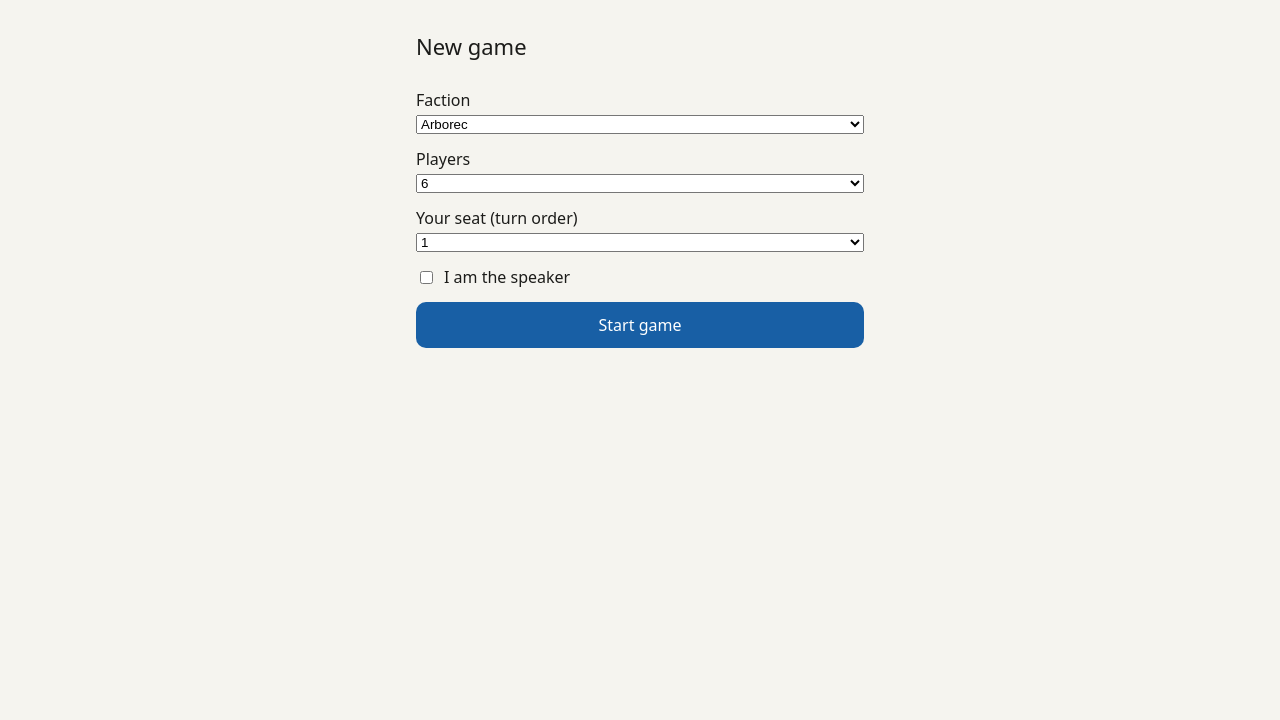
Scenario: App › opens the menu from the bottom bar
What coordinates should you click on to do the following:
click the button "Start game"
I would click on:
 (640, 326)
Its box is [416,302,864,348].
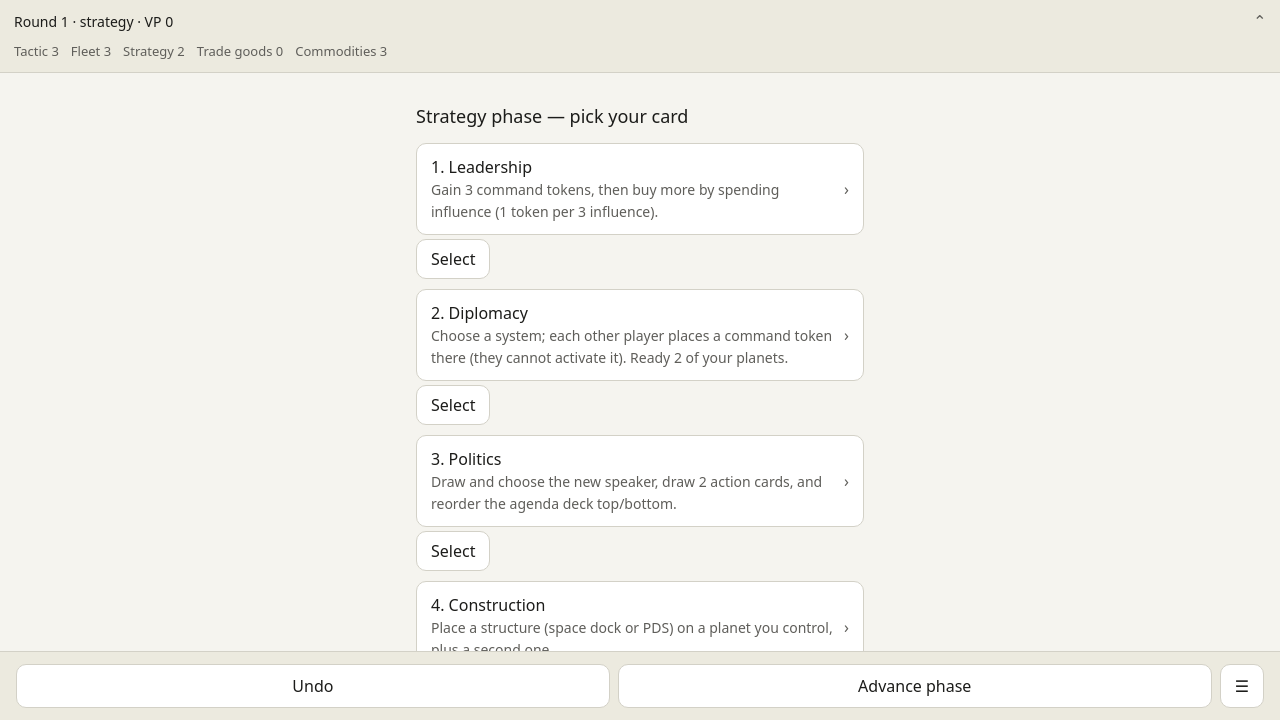
What coordinates should you click on to do the following:
click the button named "Open menu"
I would click on:
 (1242, 686)
Its box is [1220,664,1264,708].
(page scrolled)
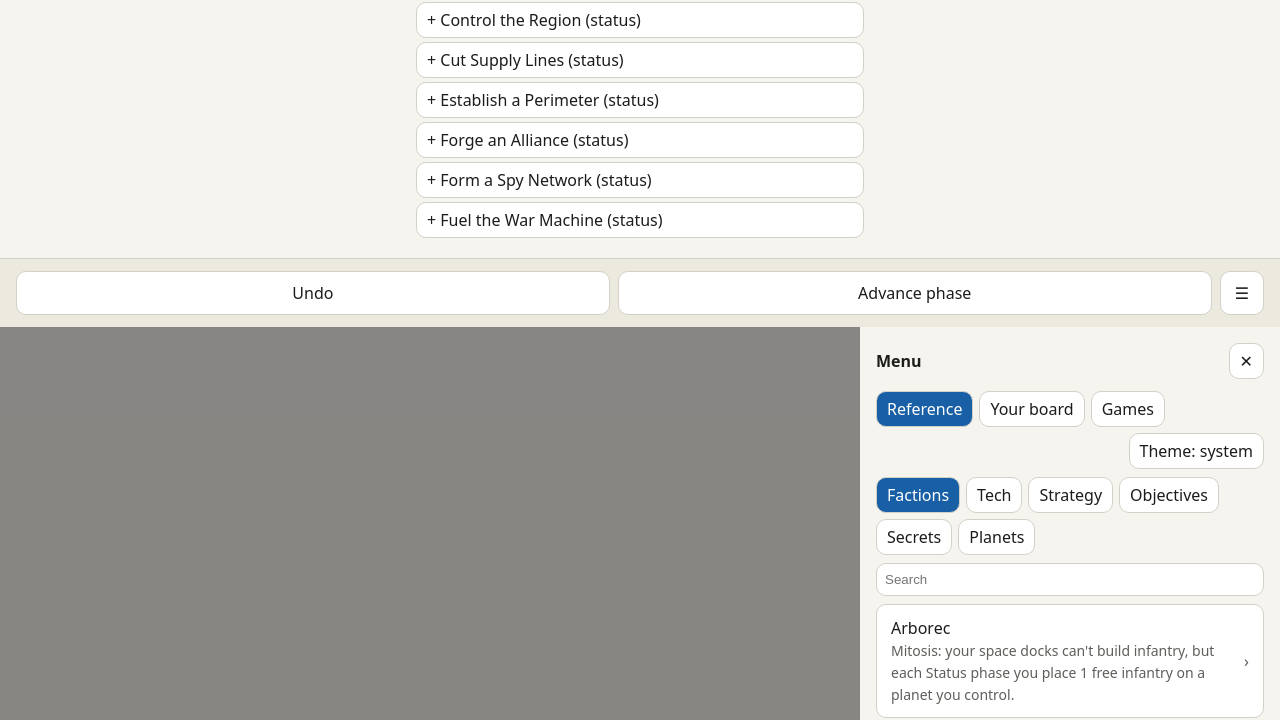
Check: the button named "Close menu" is shown, box [1229,343,1264,379]
